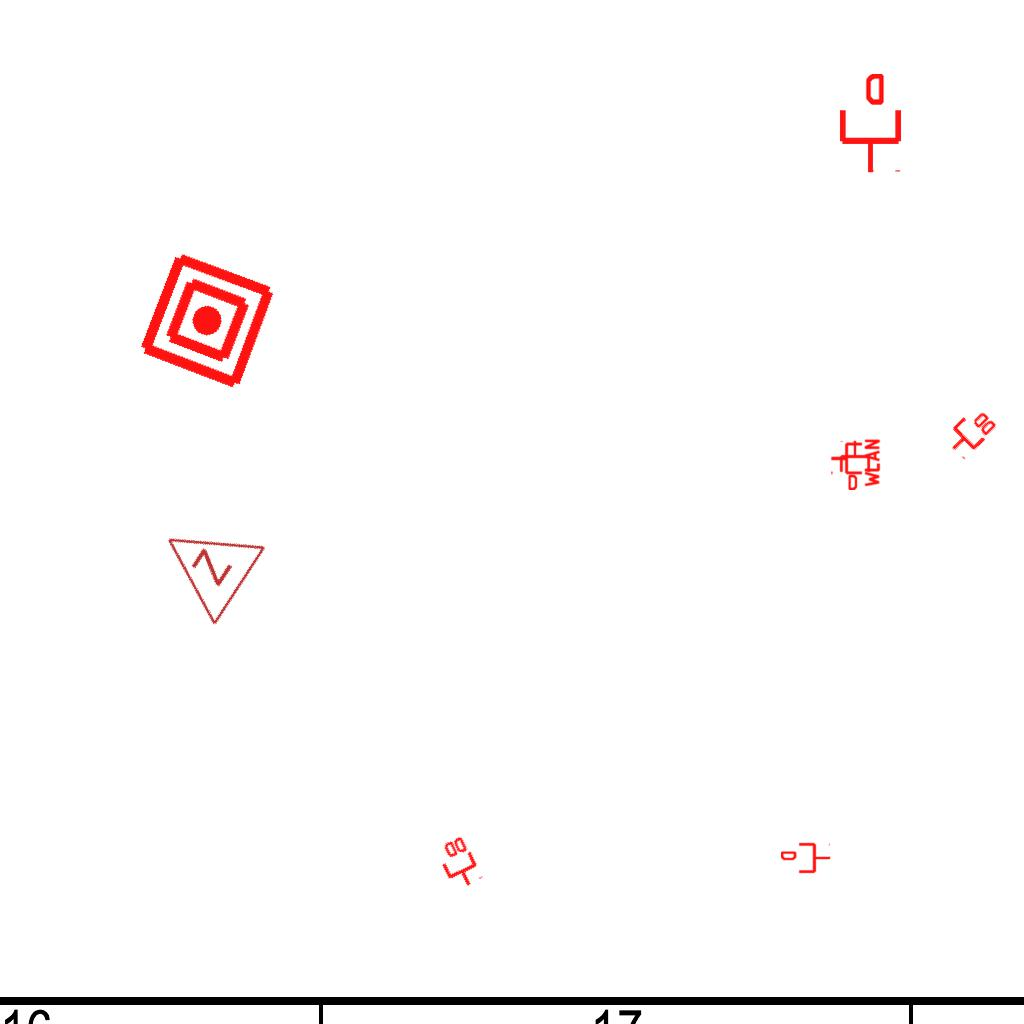Datenanschluss_einfach: (836, 74, 905, 174), (781, 841, 831, 875), (838, 440, 872, 490)
Datenanschluss_zweifach: (939, 401, 1001, 462), (431, 833, 485, 894)
NAM-Nichtautomatischer_Melder: (134, 247, 281, 394)
WLAN: (829, 437, 881, 489)
Zimmersignalleuchte: (135, 495, 273, 633)
